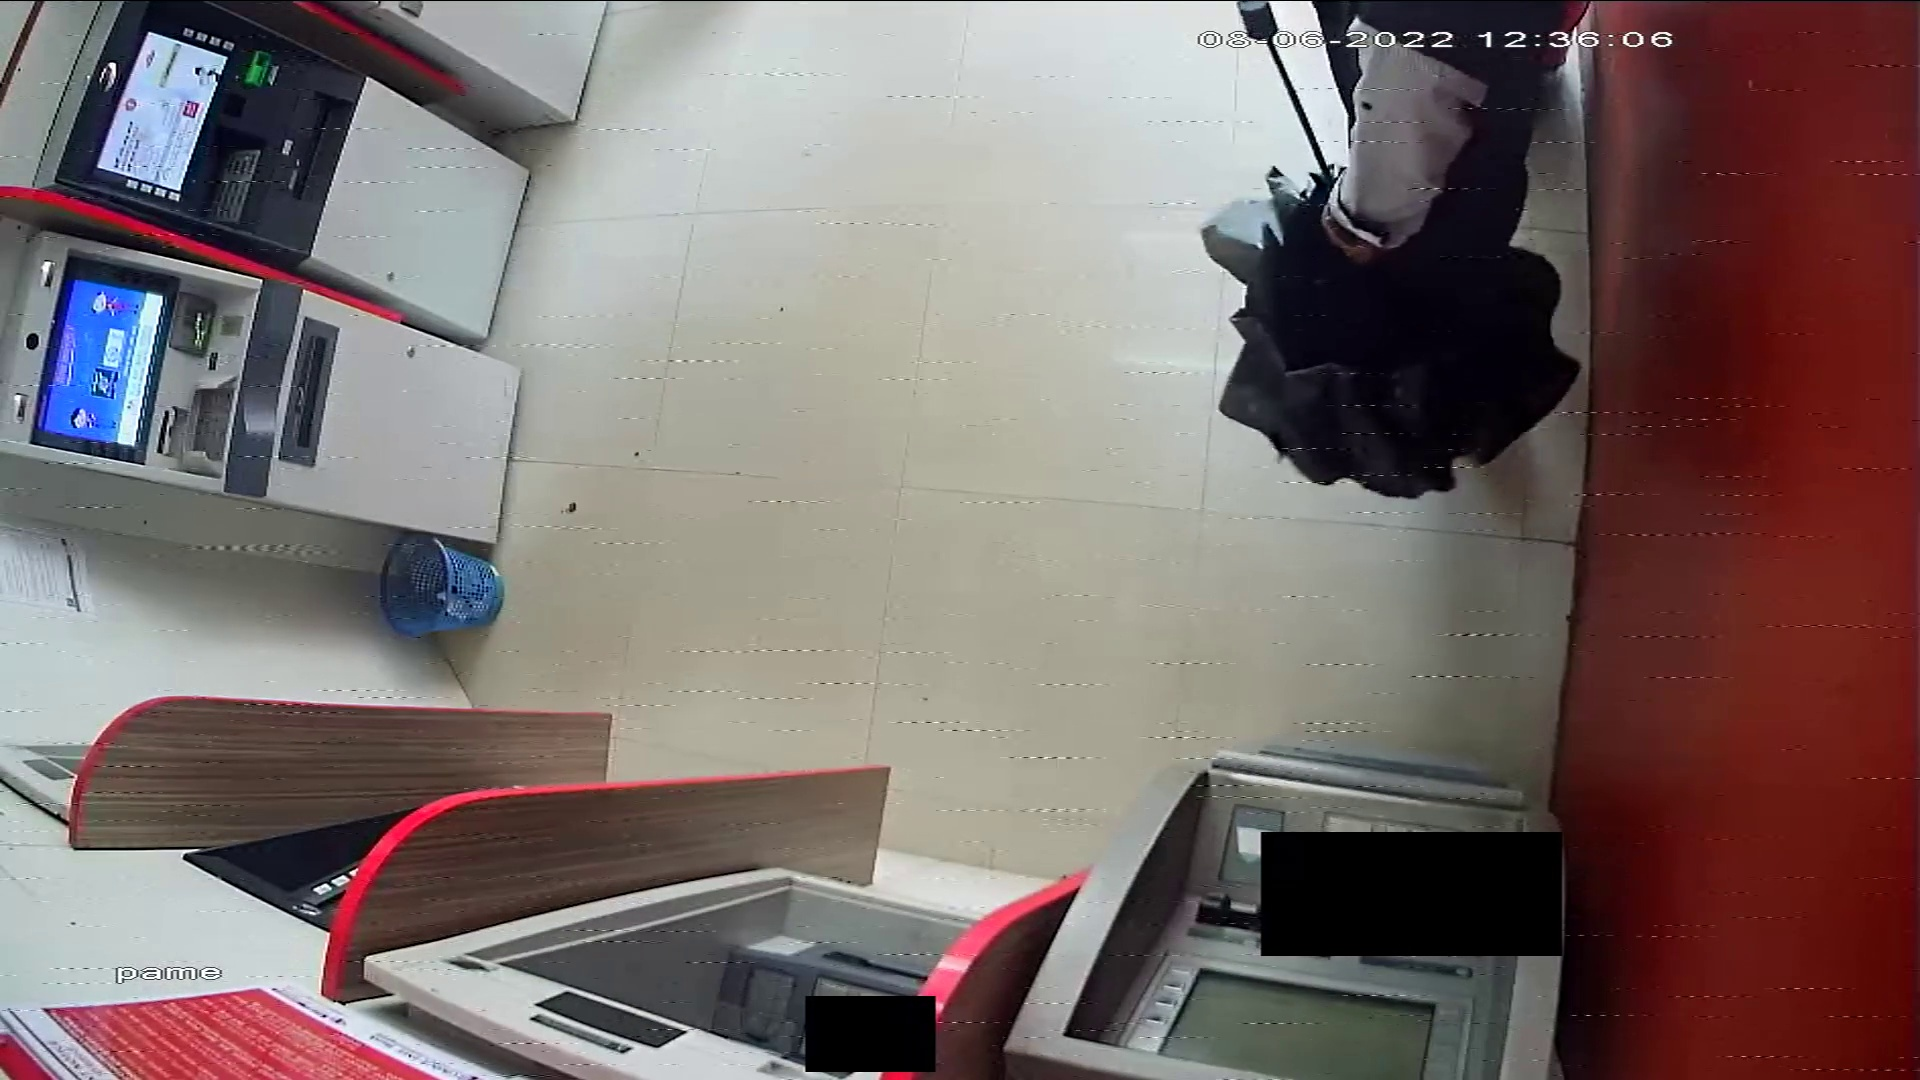person: (1299, 2, 1591, 270)
